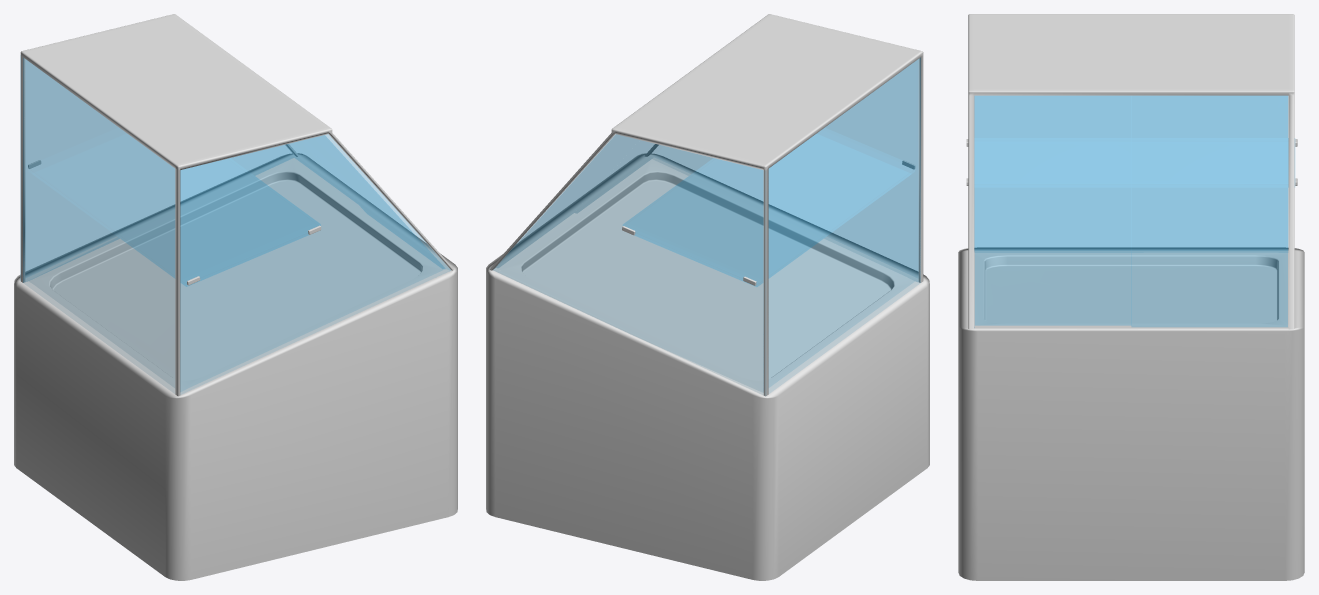
File: refrigerated counter idele game.fbx
3 views of the same model, side by side, from view 1: azimuth 30°, elevation 25°; view 2: azimuth 150°, elevation 25°; view 3: azimuth 270°, elevation 25° (orthographic). The views are drawn at different scales.
Visible parts, largest first — view 1: BancoRifrigerato, pCube6, pCube8, polySurface5, pCube5, pCube7, polySurface1, polySurface3; view 2: BancoRifrigerato, pCube7, pCube8, polySurface5, pCube5, pCube6, polySurface3, polySurface1; view 3: BancoRifrigerato, polySurface3, polySurface1, pCube8, polySurface5, pCube5.
Boxes of the visible parts, x1,y1,x2,y2 form: BancoRifrigerato: (14, 153, 457, 580); pCube6: (180, 134, 450, 391); pCube8: (23, 58, 174, 387); polySurface5: (20, 14, 454, 396); pCube5: (33, 134, 320, 286); pCube7: (25, 60, 293, 277); polySurface1: (302, 135, 444, 268); polySurface3: (283, 141, 353, 200); BancoRifrigerato: (486, 153, 929, 580); pCube7: (493, 134, 763, 392); pCube8: (769, 58, 920, 387); polySurface5: (489, 14, 923, 396); pCube5: (623, 134, 910, 286); pCube6: (655, 60, 917, 277); polySurface3: (496, 135, 638, 267); polySurface1: (575, 141, 660, 212); BancoRifrigerato: (958, 247, 1304, 580); polySurface3: (1131, 96, 1287, 326); polySurface1: (975, 96, 1130, 325); pCube8: (975, 96, 1288, 250); polySurface5: (968, 14, 1294, 329); pCube5: (975, 138, 1288, 186).
Size of the model in its own units: 2.12 by 2.88 by 2.12.
